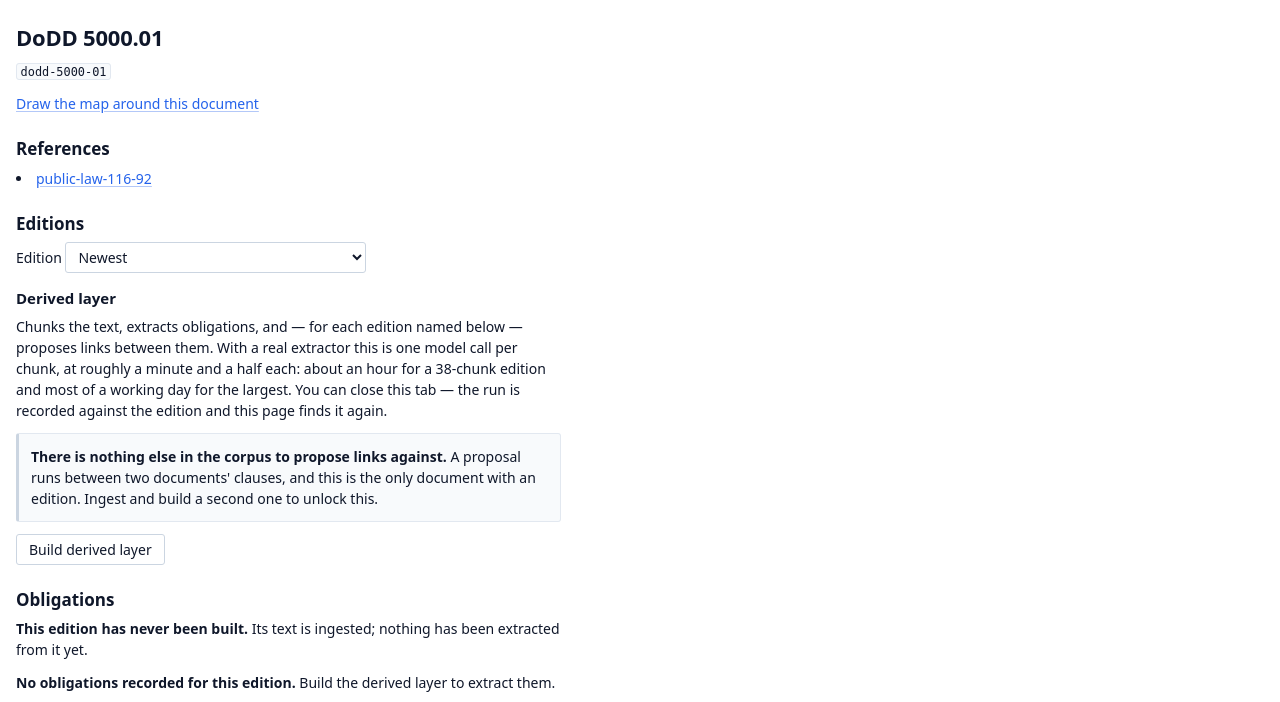
Test: DocumentDetail — building the derived layer › reports what a finished run produced, including what it rejected
Click the button "Build derived layer" at [90, 549], box 16,534 -> 165,565
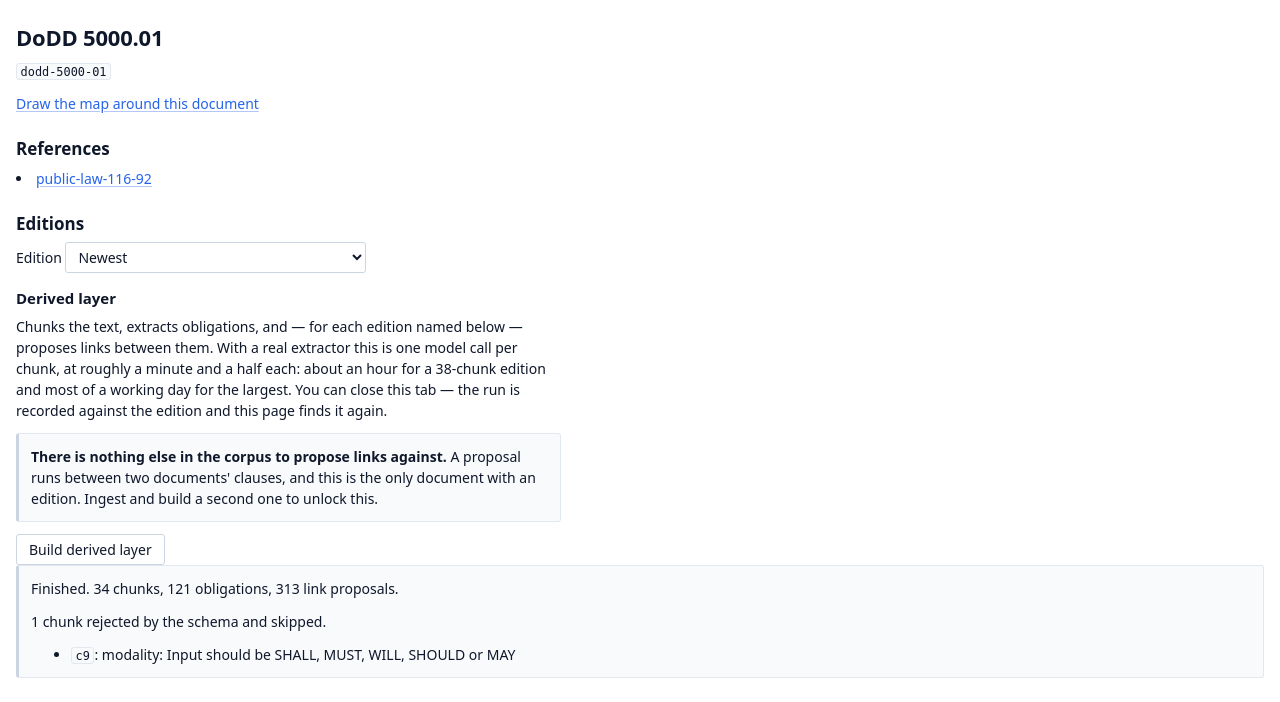
Expected: the message that starts with "Finished." shows "121", 167,579 -> 191,598
Expected: the message that starts with "Finished." shows "313", 276,579 -> 300,598
Expected: the message that starts with "Finished." shows "1 chunk", 31,612 -> 238,631
